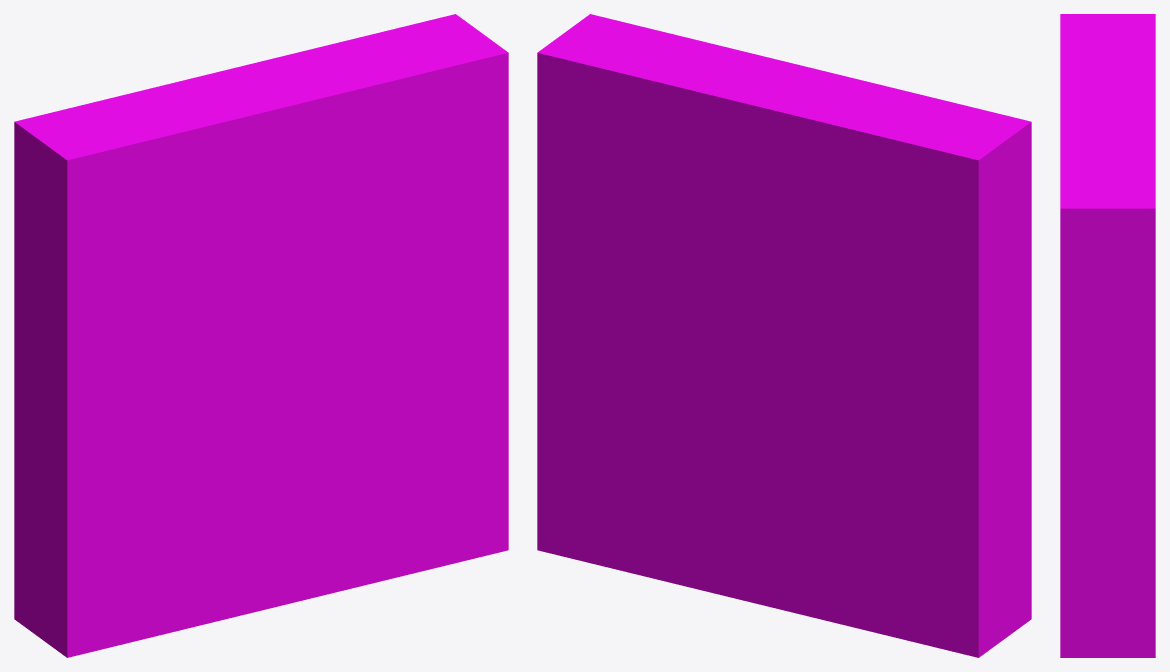
Rendered from archive-bookcase.collision.glb.
3 renders of one model, left to right at view 1: azimuth 30°, elevation 25°; view 2: azimuth 150°, elevation 25°; view 3: azimuth 270°, elevation 25°, orthographic. The views are drawn at different scales.
Parts seen in each view (by area): view 1: archive_bookcase_collision_collision; view 2: archive_bookcase_collision_collision; view 3: archive_bookcase_collision_collision.
Part boxes in pixels (x1,y1,x2,y2): archive_bookcase_collision_collision: (14, 14, 508, 657); archive_bookcase_collision_collision: (537, 14, 1031, 657); archive_bookcase_collision_collision: (1060, 14, 1155, 657).
Bounding box in the file's own units: 2.6 × 2.8 × 0.54.
